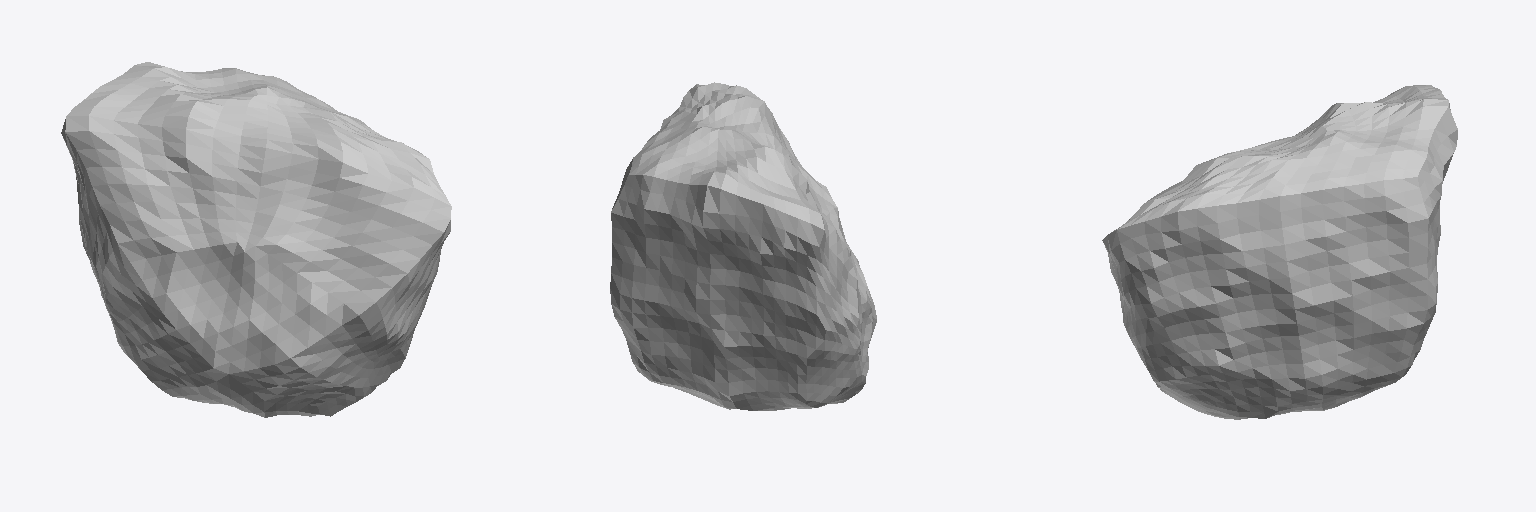
Rendered from asteroid_001.obj.
3 views of the same model, side by side, from view 1: azimuth 30°, elevation 25°; view 2: azimuth 150°, elevation 25°; view 3: azimuth 270°, elevation 25° (orthographic).
Parts seen in each view (by area): view 1: rock; view 2: rock; view 3: rock.
Part boxes in pixels (left/top/right/bottom): rock: left=61, top=62, right=451, bottom=417; rock: left=610, top=82, right=876, bottom=410; rock: left=1102, top=85, right=1457, bottom=419.
Size of the model in its own units: 2.95 by 3.24 by 3.67.